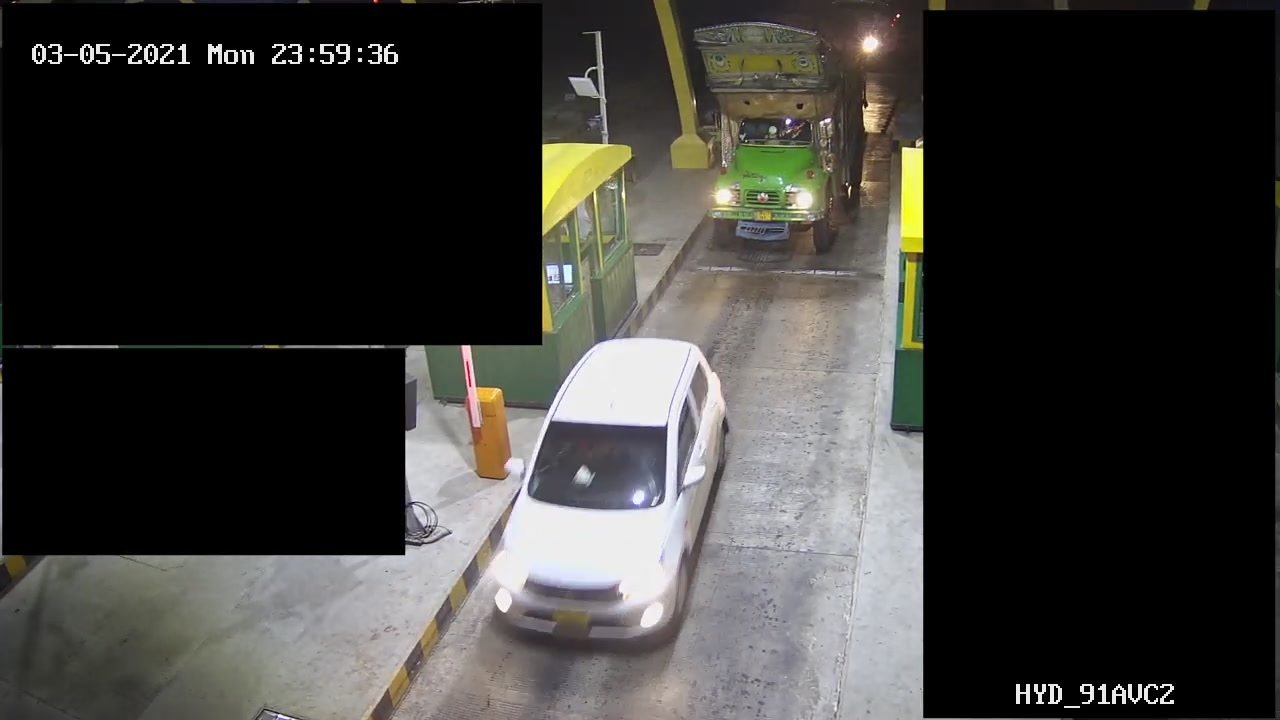F1: (466, 316, 743, 667)
